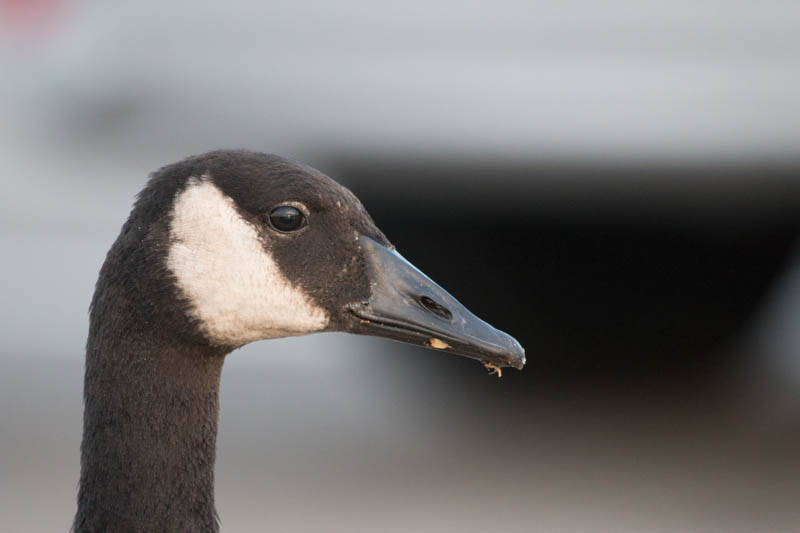goose-head: (91, 150, 526, 370)
